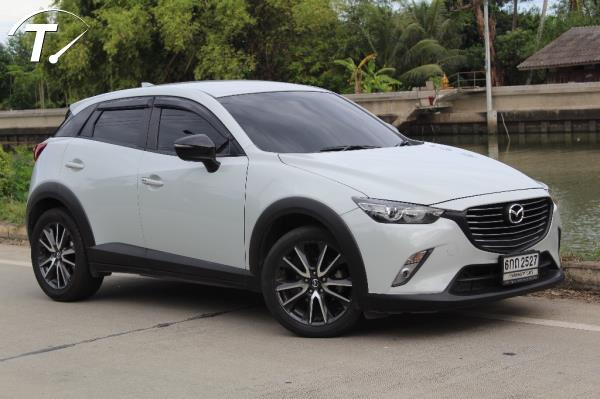pickup: (24, 79, 566, 338)
